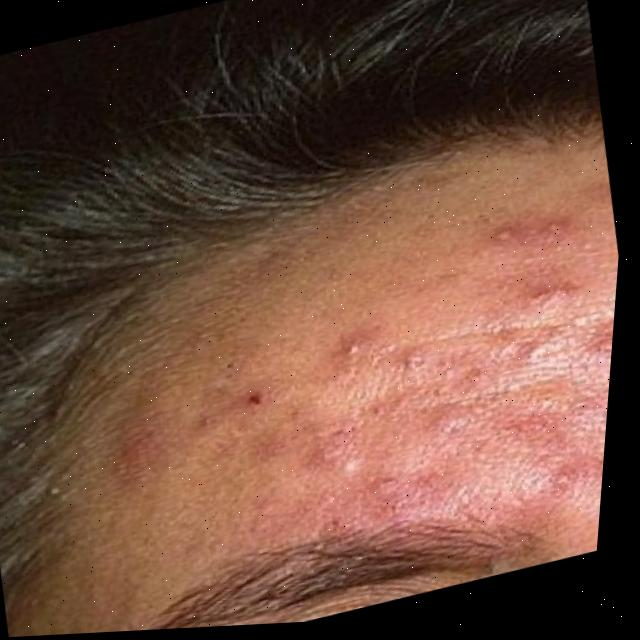Rosacea: (190, 177, 624, 553)
